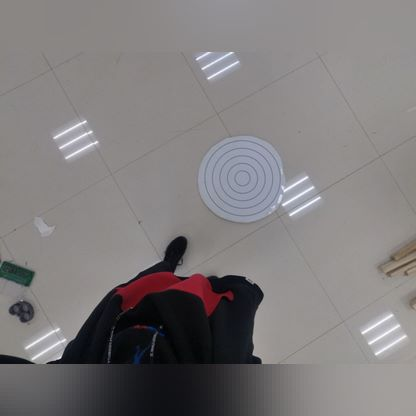W: (188, 134, 290, 218)
